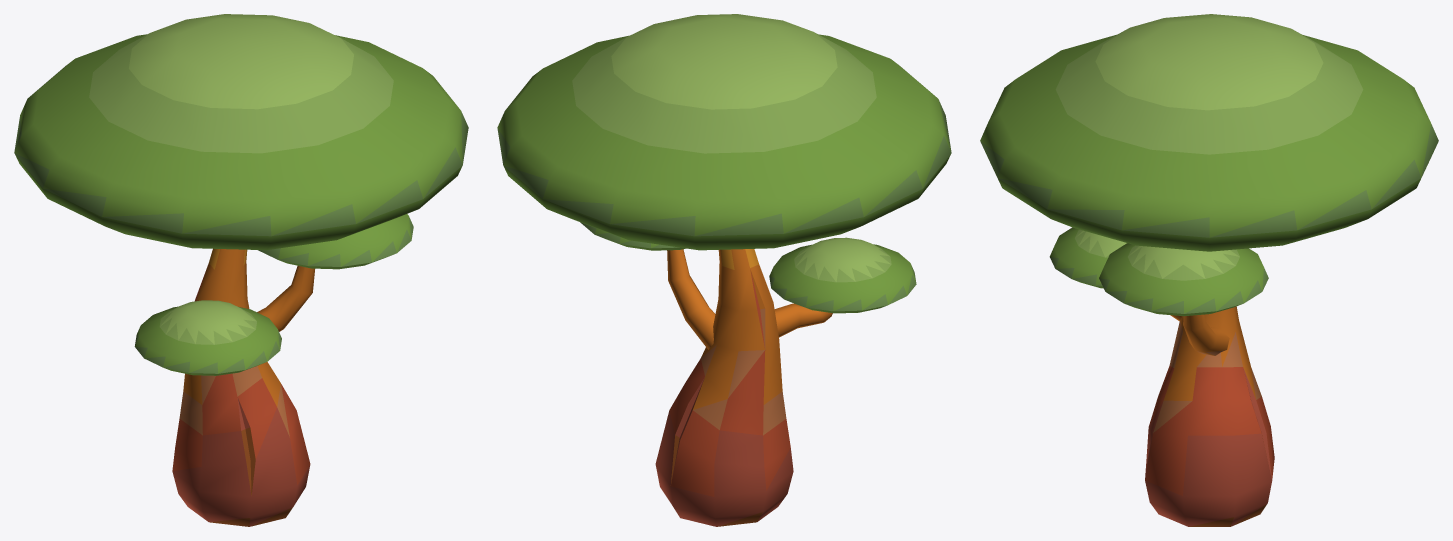
The model's file is itch_kaykit_forest_tree_3_a_color1.glb.
The picture shows the model from 3 angles, left to right: view 1: azimuth 30°, elevation 25°; view 2: azimuth 150°, elevation 25°; view 3: azimuth 270°, elevation 25°; orthographic projection.
Visible parts, largest first — view 1: Tree_3_A_Color1; view 2: Tree_3_A_Color1; view 3: Tree_3_A_Color1.
Boxes of the visible parts, x1,y1,x2,y2 form: Tree_3_A_Color1: (14,14,468,526); Tree_3_A_Color1: (497,14,951,526); Tree_3_A_Color1: (980,14,1438,526).
Bounding box in the file's own units: 1.22 × 1.38 × 1.22.
